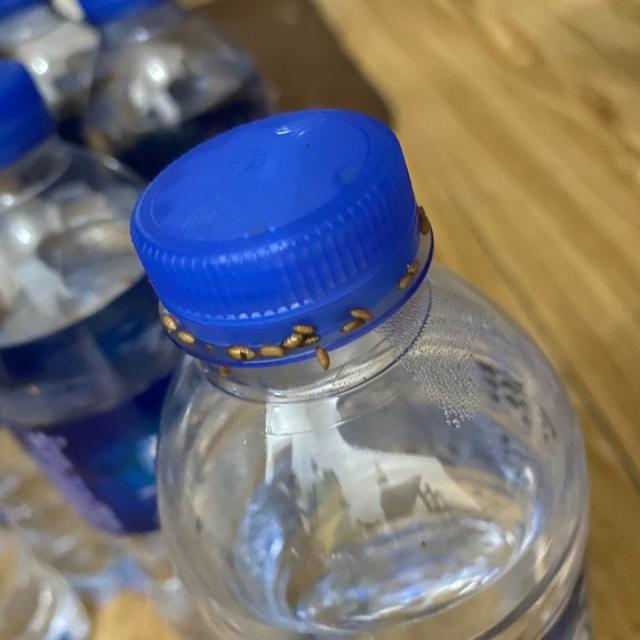plastic: (129, 104, 589, 640)
